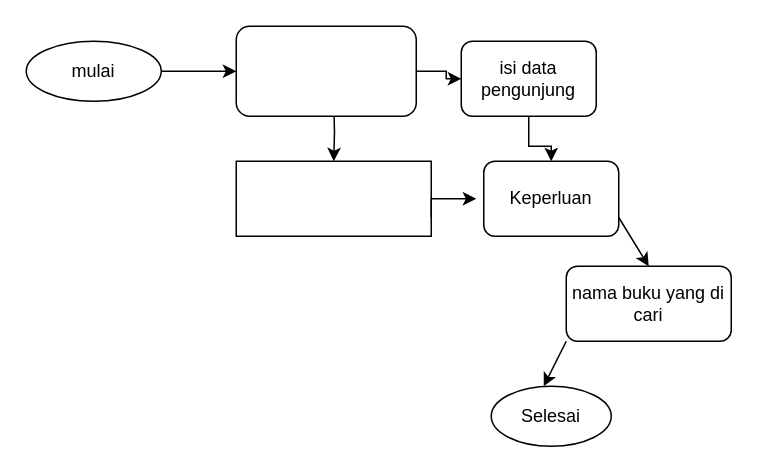
Some shapes in this 758 by 473 pixel diagram are drawn without their labels. The shapes that lost their labels are listed below. From the top down, each one's centre as x and y in pixels, then its label:
At pixel 325 70: "Halaman perpustakaan".
At pixel 333 198: "Riwayat pengunjung".
